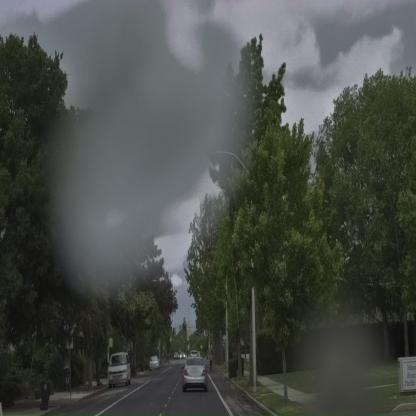car: (182, 360, 208, 393), (108, 353, 132, 388)
